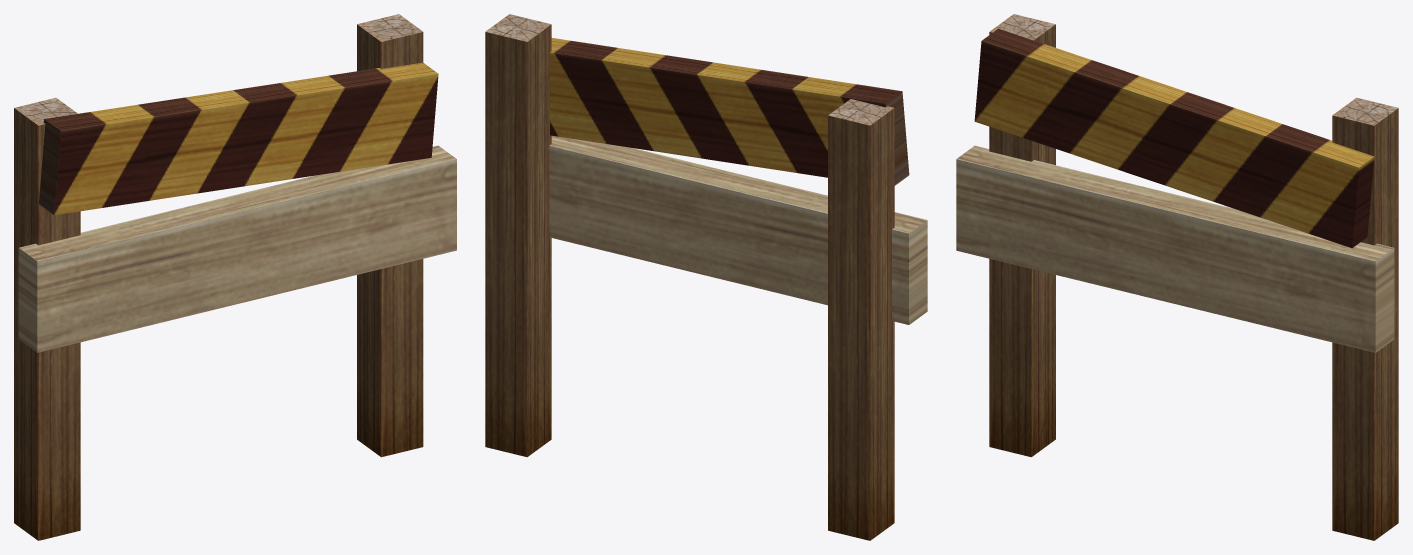
Rendered from hurdle02.FBX.
3 views of the same model, side by side, from view 1: azimuth 30°, elevation 25°; view 2: azimuth 150°, elevation 25°; view 3: azimuth 330°, elevation 25° (orthographic).
Visible parts, largest first — view 1: hurdle02; view 2: hurdle02; view 3: hurdle02.
Part boxes in pixels (x1,y1,x2,y2): hurdle02: (14, 14, 456, 540); hurdle02: (485, 14, 927, 540); hurdle02: (956, 14, 1398, 540).
Bounding box in the file's own units: 165 × 157 × 27.49.
